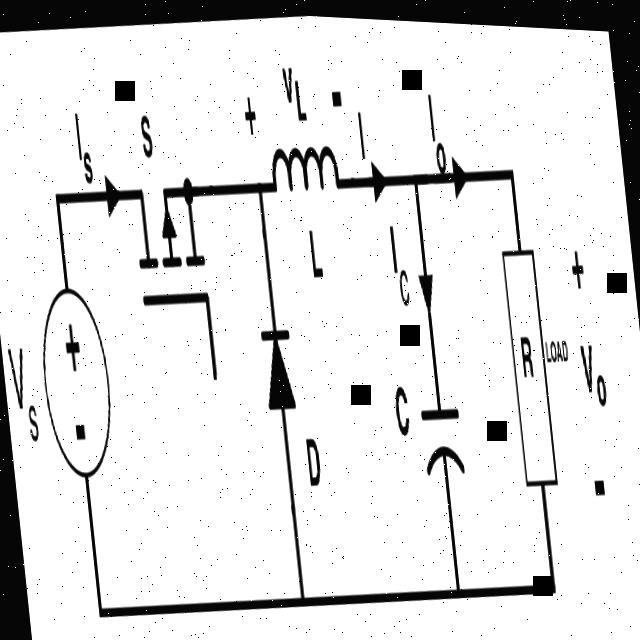capacitor: (408, 378, 486, 502)
diode: (237, 304, 313, 431)
inductor: (264, 115, 352, 234)
mosfet: (118, 140, 235, 401)
resistor: (494, 215, 566, 494)
source: (24, 266, 126, 491)
